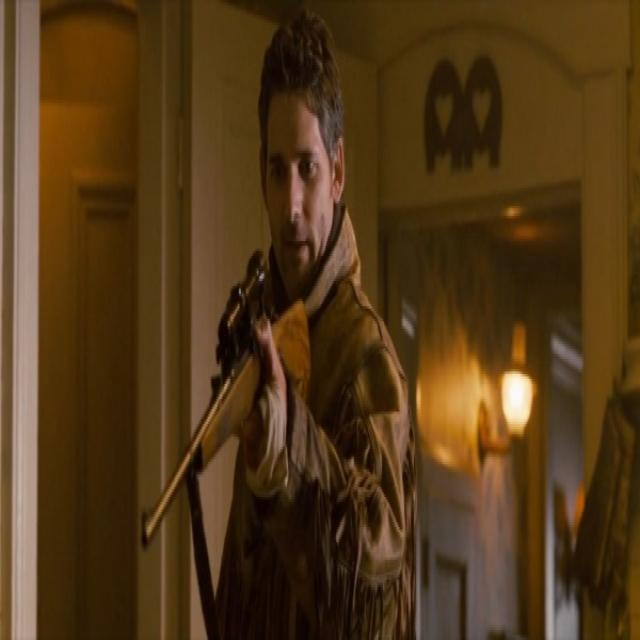rifle: (136, 244, 313, 571)
